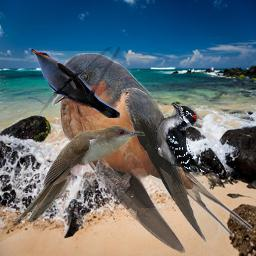Cuckoo: (16, 125, 145, 222), (28, 47, 120, 118)
Swallow: (52, 51, 252, 253)
Woodpecker: (155, 103, 213, 172)
